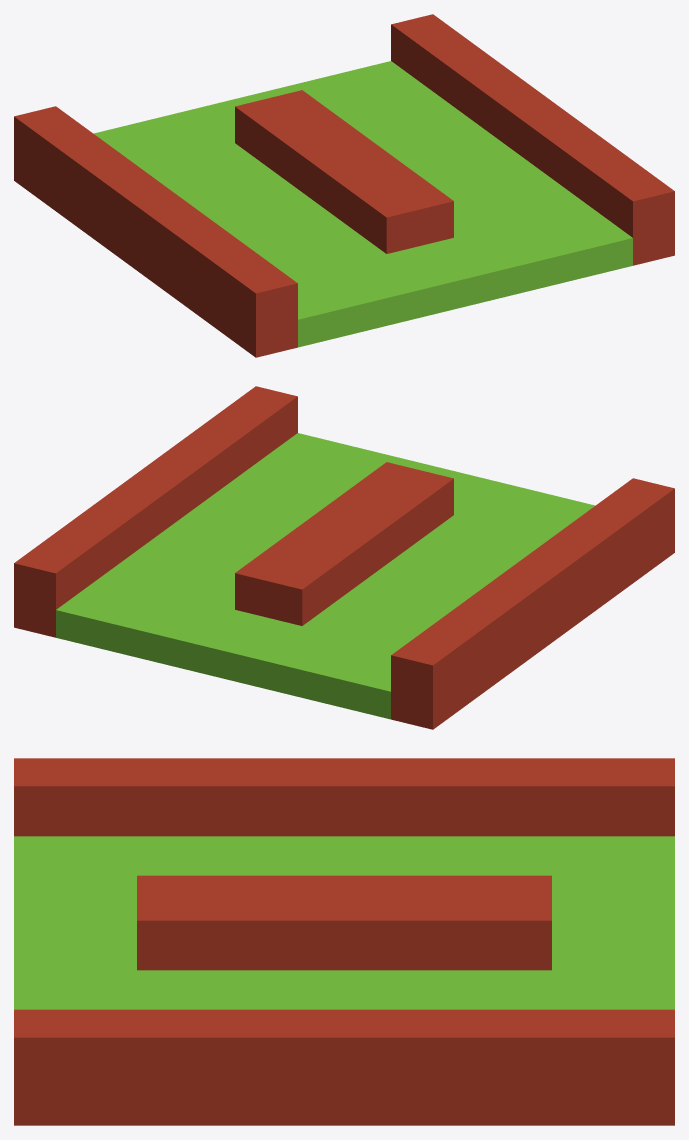
Rendered from Obstacle_block_01.obj.
The picture shows the model from 3 angles, top to bottom: view 1: azimuth 30°, elevation 25°; view 2: azimuth 150°, elevation 25°; view 3: azimuth 270°, elevation 25°; orthographic projection. The views are drawn at different scales.
Parts seen in each view (by area): view 1: Mesh1_Obstacle_block_Model; view 2: Mesh1_Obstacle_block_Model; view 3: Mesh1_Obstacle_block_Model.
Boxes of the visible parts, box(x1,y1,x2,y2) form: Mesh1_Obstacle_block_Model: box(14, 14, 674, 357); Mesh1_Obstacle_block_Model: box(14, 386, 674, 729); Mesh1_Obstacle_block_Model: box(14, 758, 674, 1125).
Bounding box in the file's own units: 3 × 0.44 × 3.
